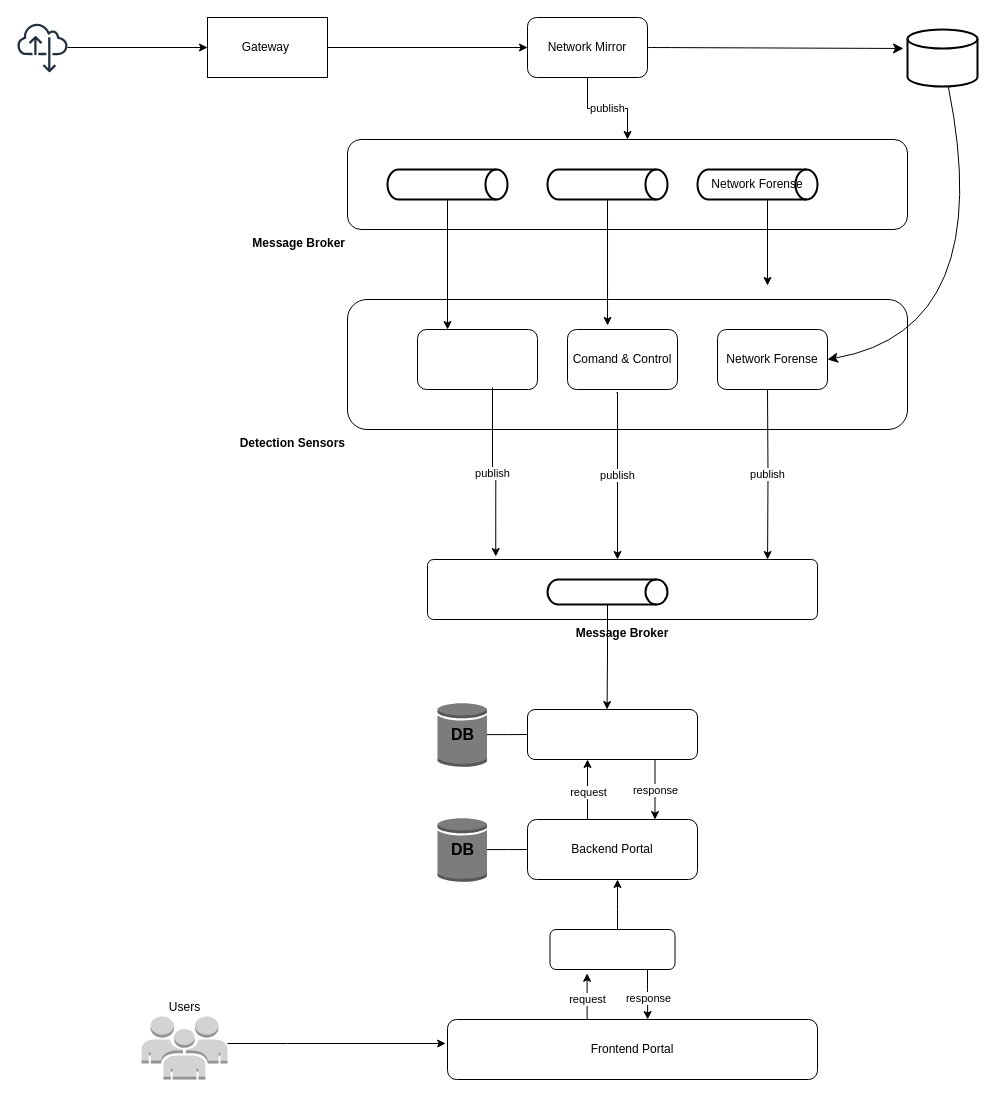
This 995x1097 diagram has some shape labels left out. Here are the shapes that lost their labels. From the top down, the centre of each, then its label:
pixel 42 47: Internet
pixel 942 57: File Storage
pixel 447 184: File Analisys
pixel 607 184: C&C
pixel 477 359: File Analysis
pixel 612 734: ACI
pixel 612 949: API Gateway
